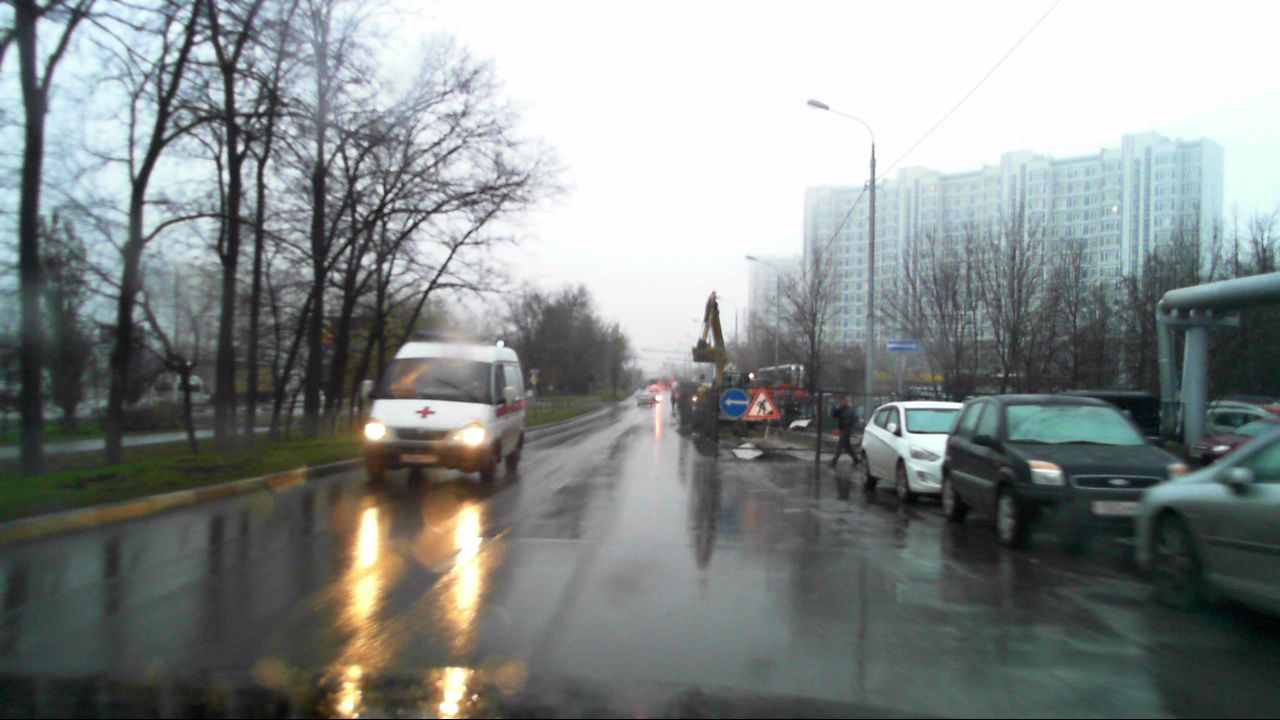One-Way Traffic: (886, 340, 918, 352)
Turn Left: (718, 389, 749, 418)
